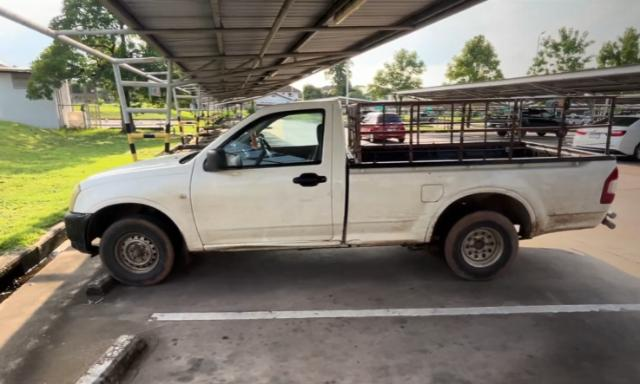pickup-truck: (66, 97, 620, 288)
